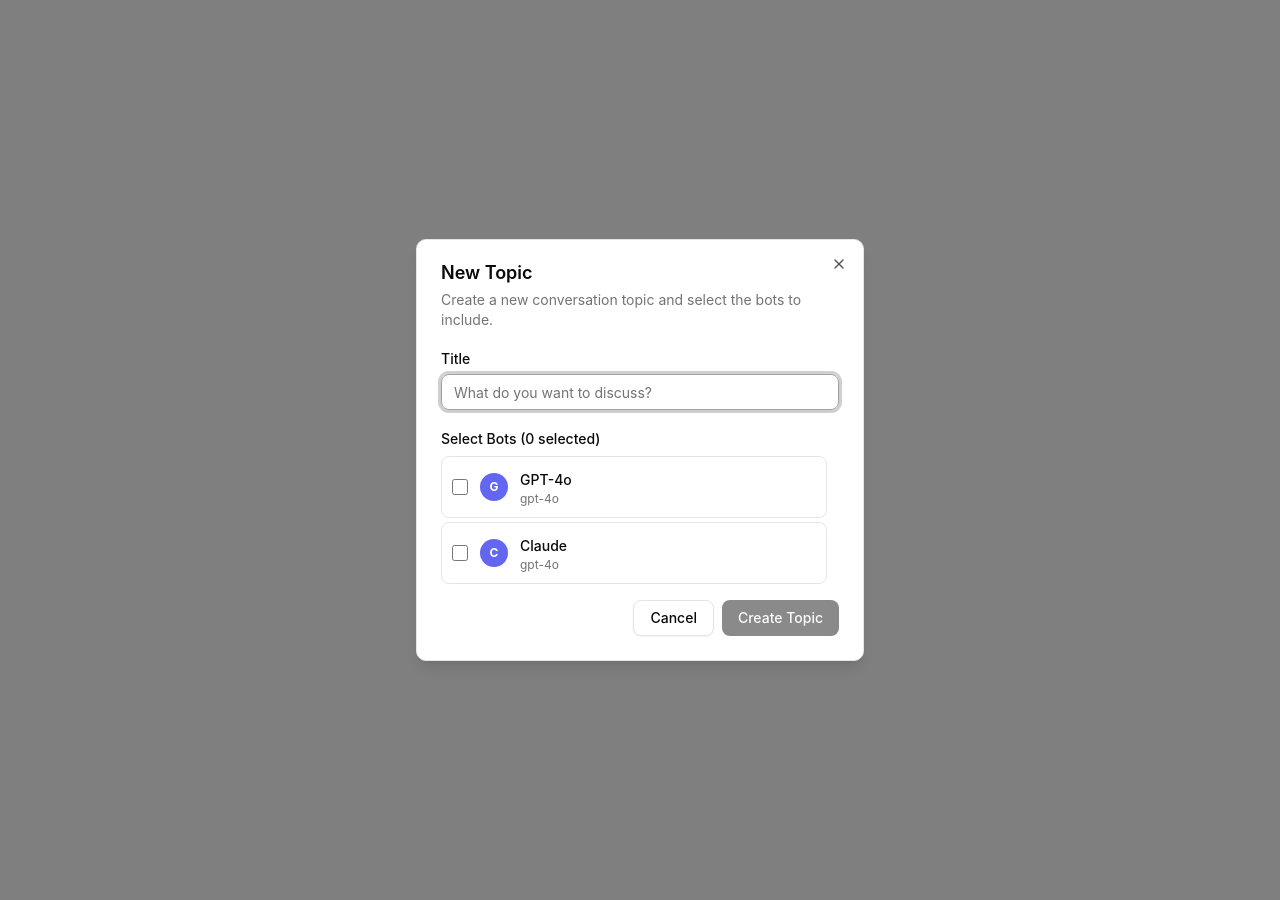
Test: CreateTopicDialog › UT-COMP-20: enables submit button when title and bots are provided
# Type a title
Type "My Topic" into the field labelled "Title" at (640, 392), box [441,374,839,410]
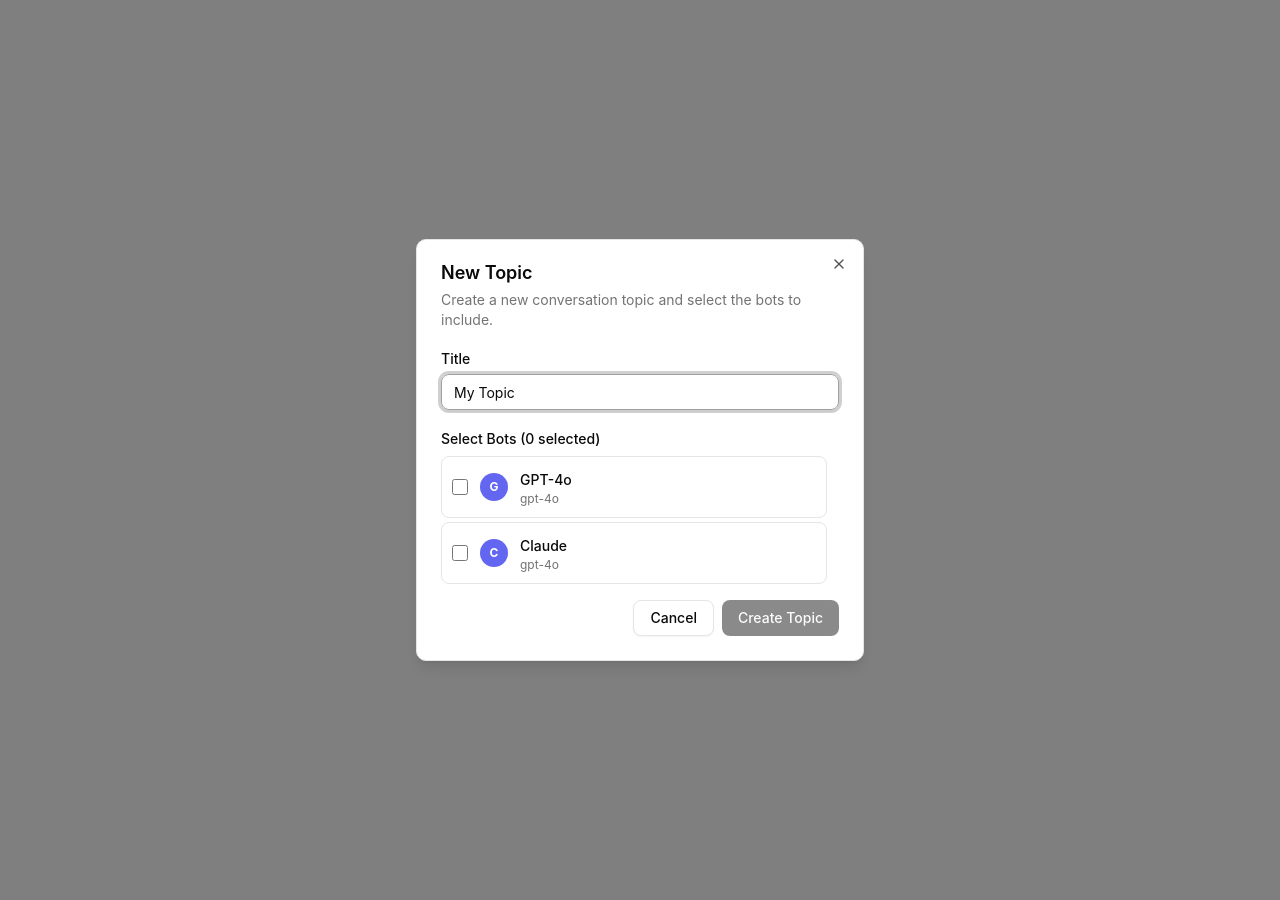
# Select a bot
Click the checkbox labelled "G GPT-4o gpt-4o" at (460, 487), box [452,479,468,495]
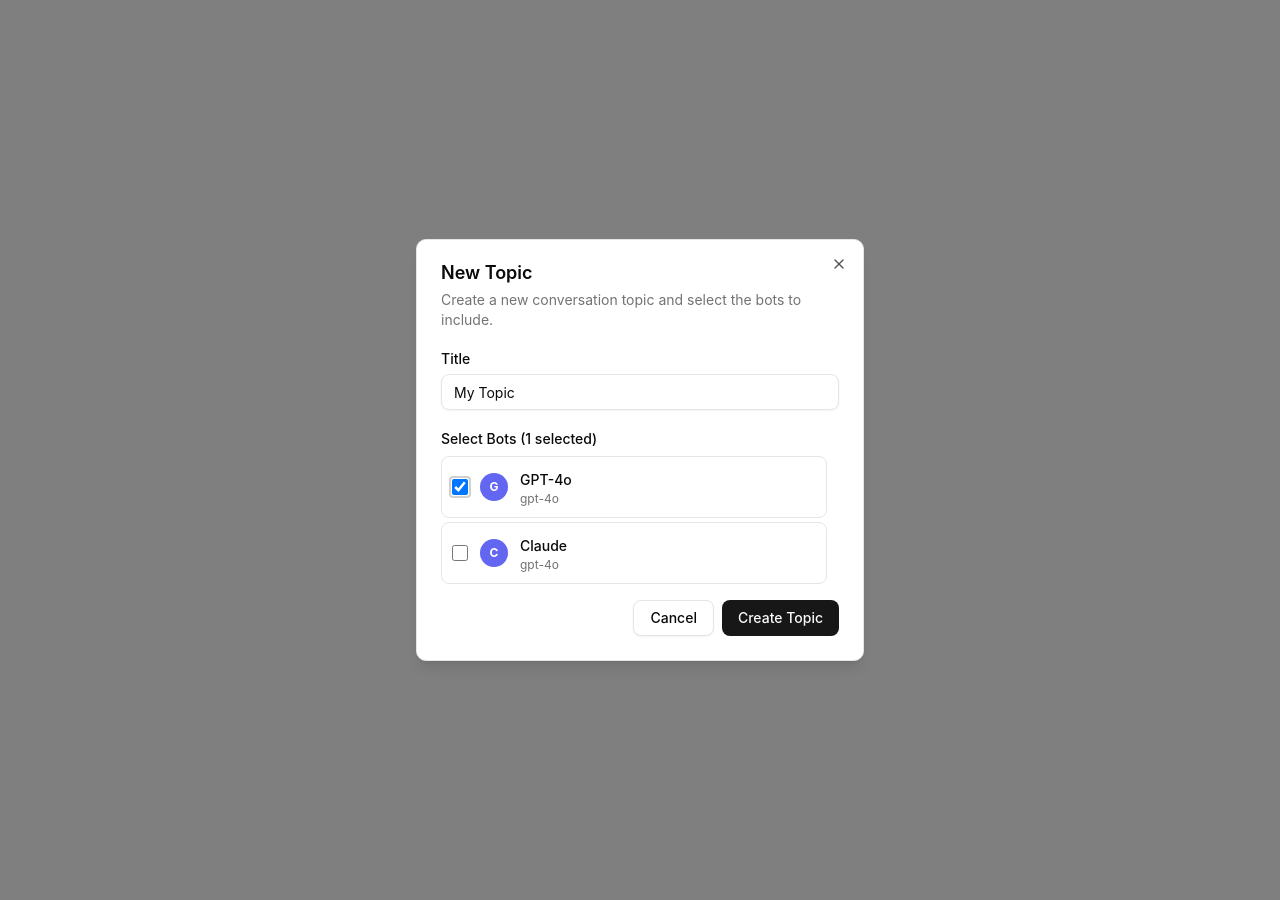
Expected: the button "Create Topic" is enabled, [722,600,839,636]
